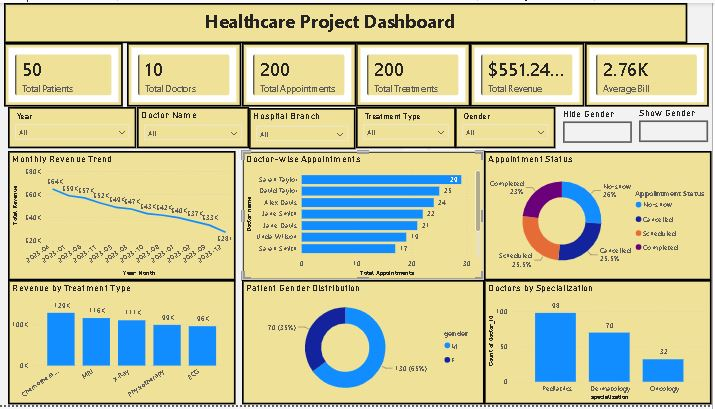

This screenshot's page, from the dashboard's own definition file:
{"tool":"powerbi","page":{"name":"Page 1","canvas":[1280,720],"ordinal":0},"visuals":[{"type":"textbox","box":[10.1,0,1224.6,72.2],"z":0},{"type":"cardVisual","fields":{"Data":["patients[1].Total Patients"]},"box":[10.1,72.2,213.3,114.2],"z":1000},{"type":"cardVisual","fields":{"Data":["treatments[1].Total Treatments"]},"box":[641.7,72.2,204.9,114.2],"z":2000},{"type":"cardVisual","fields":{"Data":["doctors[1].Test Doctors"]},"box":[231.8,72.2,204.9,114.2],"z":3000},{"type":"cardVisual","fields":{"Data":["billing[1].Average Bill"]},"box":[1051.5,72.2,221.7,114.2],"z":4000},{"type":"cardVisual","fields":{"Data":["billing[1].Total Revenue"]},"box":[846.6,72.2,204.9,114.2],"z":5000},{"type":"cardVisual","fields":{"Data":["appointments[1].Total Appointments"]},"box":[436.7,72.2,204.9,114.2],"z":6000},{"type":"lineChart","title":"Monthly Revenue Trend","fields":{"Category":["Datetable.Year Month"],"Y":["billing[1].Total Revenue"]},"box":[18.5,265.4,408.2,231.8],"z":7000},{"type":"clusteredBarChart","title":"Doctor-wise Appointments","fields":{"Y":["appointments[1].Total Appointments"],"Category":["doctors[1].Doctor name"]},"box":[436.7,265.4,435.1,231.8],"z":8000},{"type":"donutChart","title":"Appointment Status","fields":{"Category":["appointments[1].status"],"Y":["CountNonNull(appointments[1].appointment_id)"]},"box":[871.8,265.4,408.2,231.8],"z":9000},{"type":"clusteredColumnChart","title":"Revenue by Treatment Type","fields":{"Category":["treatments[1].treatment_type"],"Y":["billing[1].Tretment Revenue"]},"box":[18.5,497.2,408.2,223.4],"z":10000},{"type":"donutChart","title":"Patient Gender Distribution","fields":{"Category":["patients[1].gender"],"Y":["CountNonNull(billing[1].patient_id)"]},"box":[436.7,497.2,435.1,223.4],"z":11000},{"type":"clusteredColumnChart","title":"Doctors by Specialization","fields":{"Category":["doctors[1].specialization"],"Y":["CountNonNull(appointments[1].doctor_id)"]},"box":[871.8,497.2,408.2,223.4],"z":12000},{"type":"slicer","fields":{"Values":["Datetable.Year Month"]},"box":[18.5,186.5,230.1,73.9],"z":13000},{"type":"slicer","title":"Hospital Branch","fields":{"Values":["Datetable.Year Month"]},"box":[559.4,186.5,191.5,73.9],"z":14000},{"type":"slicer","fields":{"Values":["treatments[1].treatment_type"]},"box":[792.9,186.5,179.7,73.9],"z":15000},{"type":"slicer","title":"Doctor Name","fields":{"Values":["doctors[1].Doctor name"]},"box":[305.7,186.5,199.9,73.9],"z":16000},{"type":"slicer","fields":{"Values":["patients[1].gender"]},"box":[1029.7,186.5,179.7,73.9],"z":17000}]}

Visuals, with their boxes in screenshot pixels (x1, y1, x2, y2), scaled from the page's 1280x720 canvas onto the 715x409 screenshot:
textbox: {"x1": 6, "y1": 0, "x2": 690, "y2": 41}
cardVisual - patients[1].Total Patients: {"x1": 6, "y1": 41, "x2": 125, "y2": 106}
cardVisual - treatments[1].Total Treatments: {"x1": 358, "y1": 41, "x2": 473, "y2": 106}
cardVisual - doctors[1].Test Doctors: {"x1": 129, "y1": 41, "x2": 244, "y2": 106}
cardVisual - billing[1].Average Bill: {"x1": 587, "y1": 41, "x2": 711, "y2": 106}
cardVisual - billing[1].Total Revenue: {"x1": 473, "y1": 41, "x2": 587, "y2": 106}
cardVisual - appointments[1].Total Appointments: {"x1": 244, "y1": 41, "x2": 358, "y2": 106}
"Monthly Revenue Trend" lineChart: {"x1": 10, "y1": 151, "x2": 238, "y2": 282}
"Doctor-wise Appointments" clusteredBarChart: {"x1": 244, "y1": 151, "x2": 487, "y2": 282}
"Appointment Status" donutChart: {"x1": 487, "y1": 151, "x2": 714, "y2": 282}
"Revenue by Treatment Type" clusteredColumnChart: {"x1": 10, "y1": 282, "x2": 238, "y2": 408}
"Patient Gender Distribution" donutChart: {"x1": 244, "y1": 282, "x2": 487, "y2": 408}
"Doctors by Specialization" clusteredColumnChart: {"x1": 487, "y1": 282, "x2": 714, "y2": 408}
slicer - Datetable.Year Month: {"x1": 10, "y1": 106, "x2": 139, "y2": 148}
"Hospital Branch" slicer: {"x1": 312, "y1": 106, "x2": 419, "y2": 148}
slicer - treatments[1].treatment_type: {"x1": 443, "y1": 106, "x2": 543, "y2": 148}
"Doctor Name" slicer: {"x1": 171, "y1": 106, "x2": 282, "y2": 148}
slicer - patients[1].gender: {"x1": 575, "y1": 106, "x2": 676, "y2": 148}
